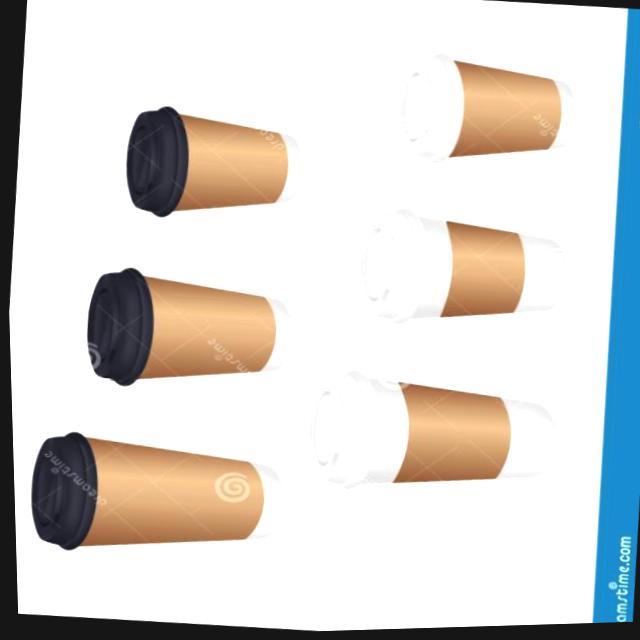Cup: (19, 420, 288, 571), (296, 360, 562, 510), (348, 198, 573, 344), (75, 258, 296, 402), (115, 98, 309, 232), (389, 46, 580, 179)
